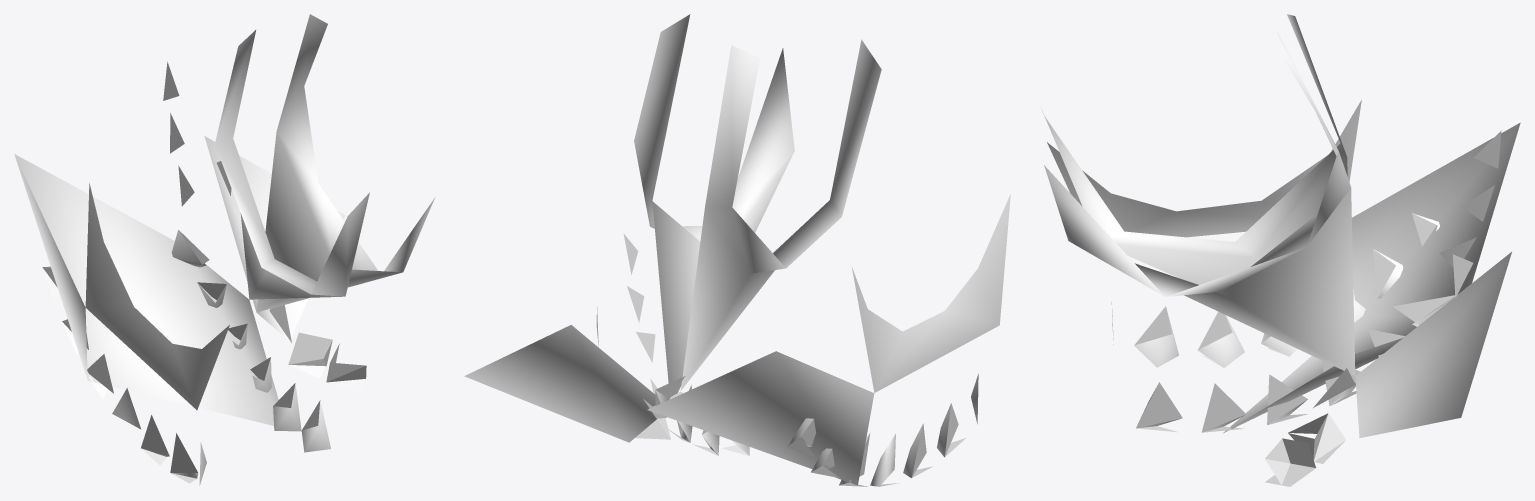
3 views of the same model, side by side, from view 1: azimuth 30°, elevation 25°; view 2: azimuth 150°, elevation 25°; view 3: azimuth 270°, elevation 25° (orthographic). The views are drawn at different scales.
Size of the model in its own units: 0.8154 by 0.9614 by 0.9747.
1 material, 1 textured.
